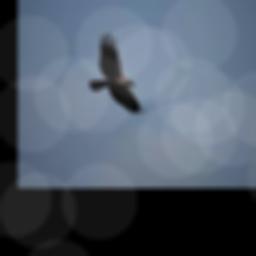Crow: (89, 32, 141, 114)
